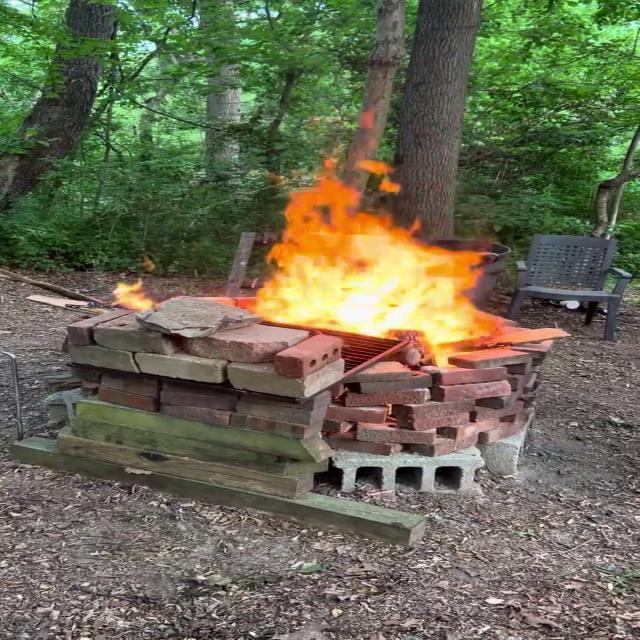Fire: (239, 150, 506, 364), (106, 274, 160, 312)
